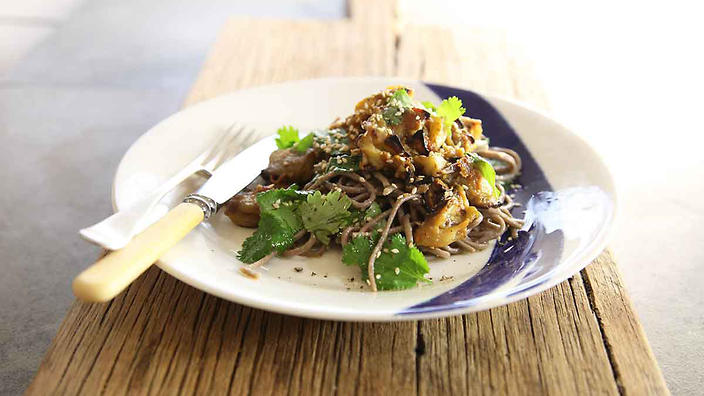Soba: (226, 98, 542, 284)
